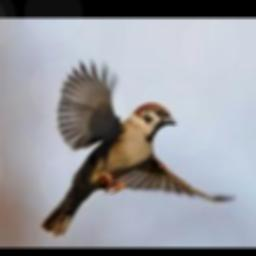Sparrow: (41, 58, 237, 237)
